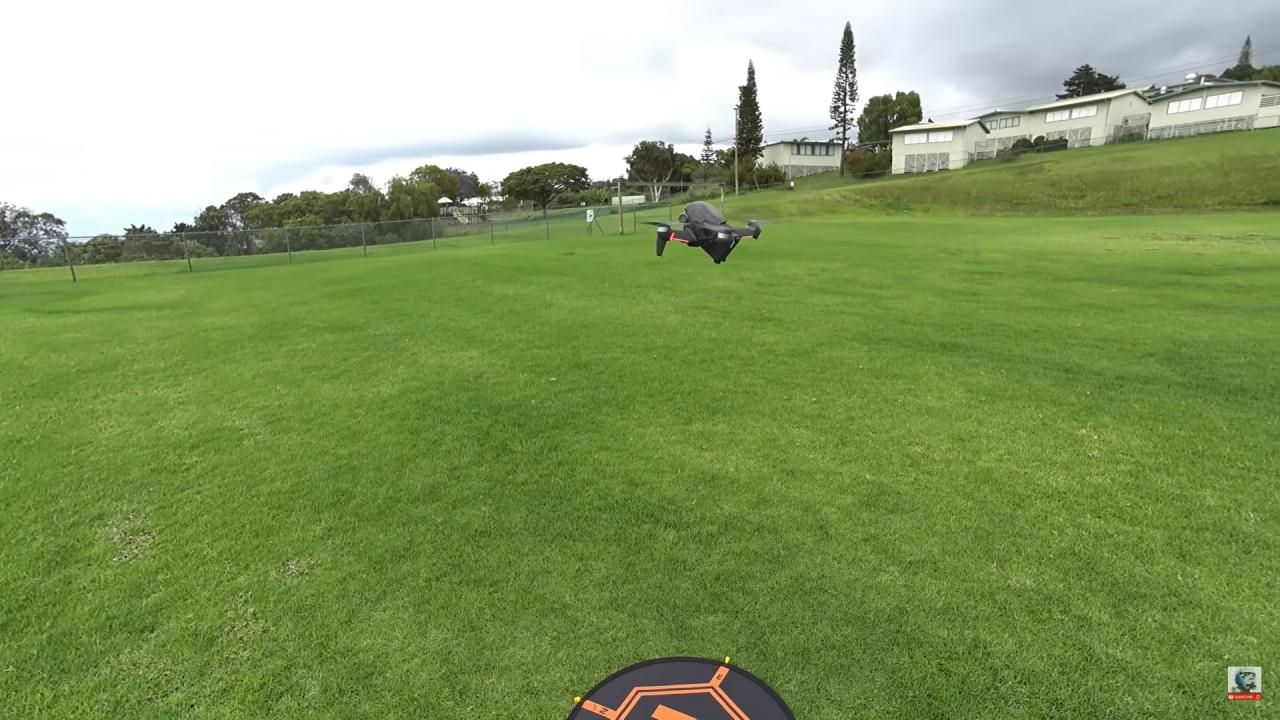Drone: (627, 186, 784, 282)
